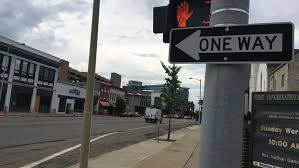oneWay: (169, 26, 294, 64)
